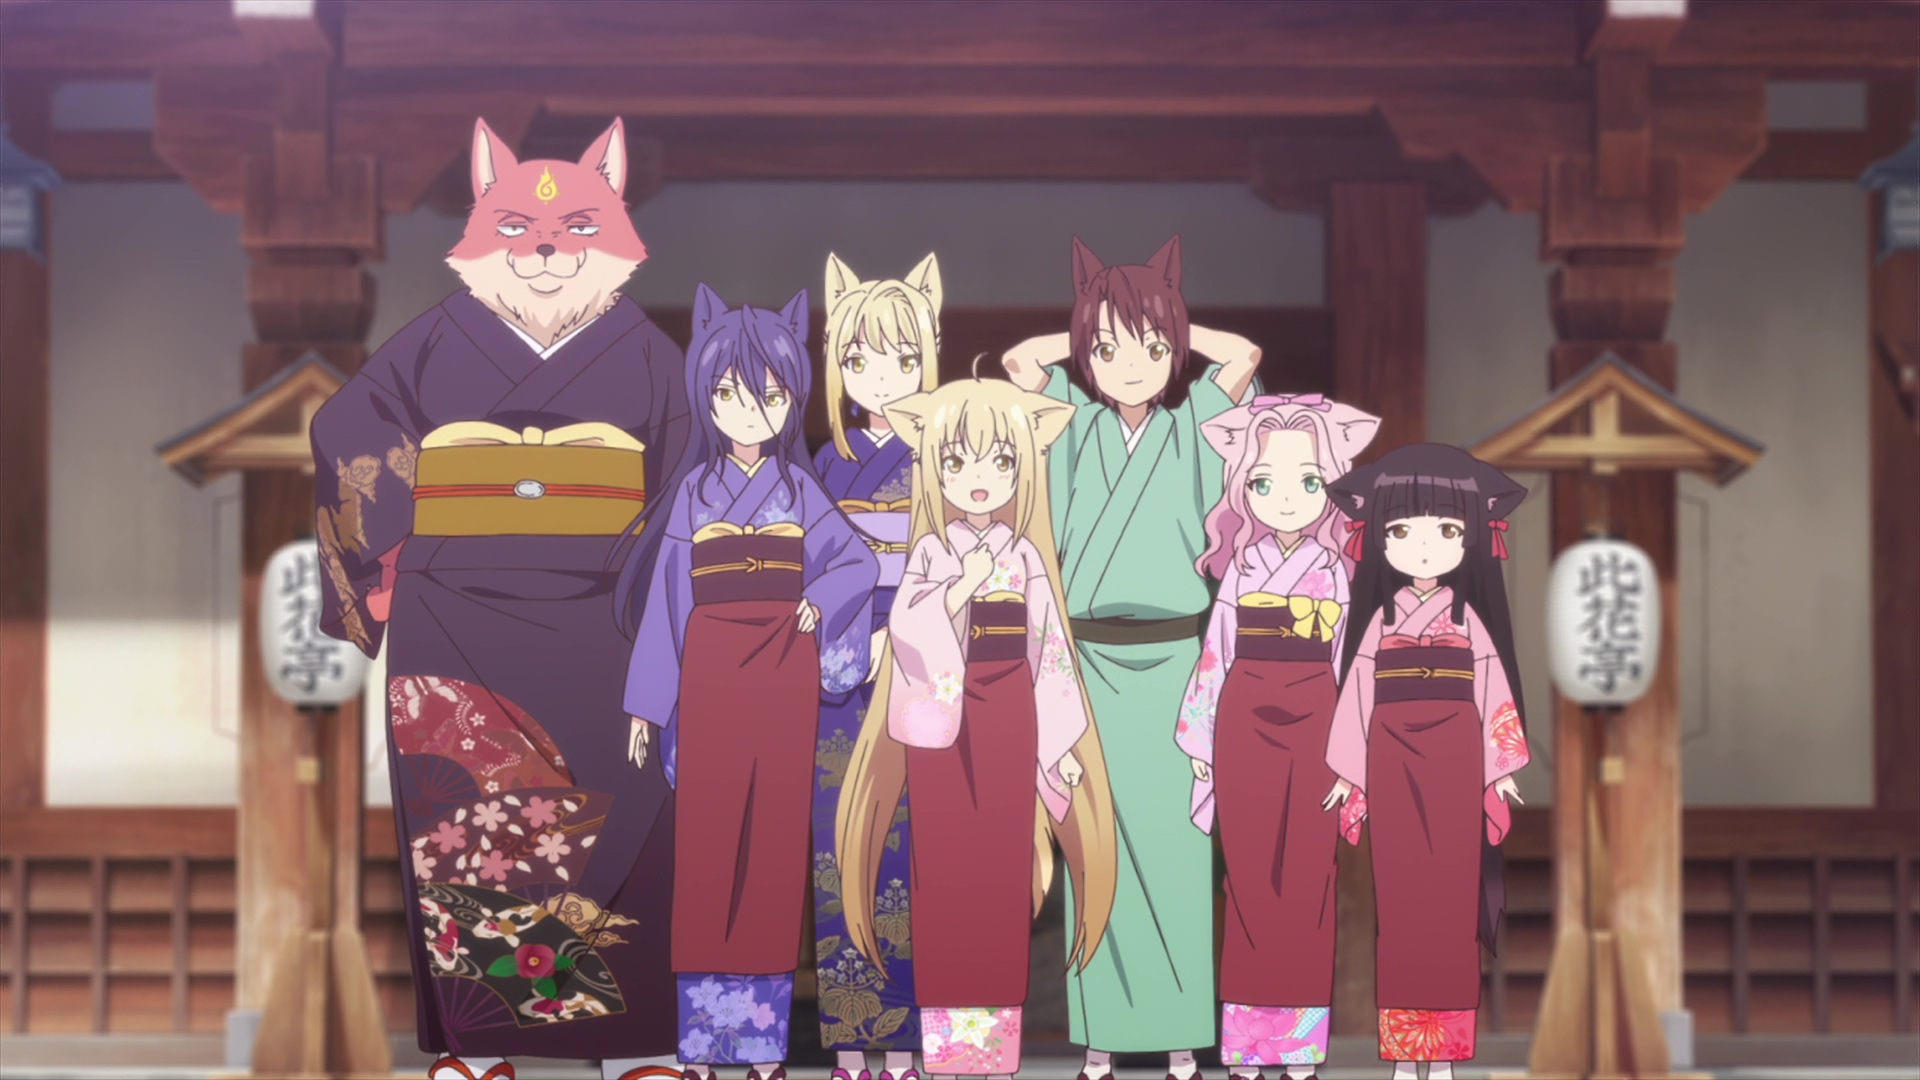枣: (1001, 235, 1263, 1080)
柚: (833, 353, 1120, 1080)
桐: (812, 251, 944, 1080)
椿: (309, 112, 690, 1080)
樱: (1323, 442, 1530, 1080)
皋: (608, 282, 880, 1080)
莲: (1174, 394, 1385, 1080)
